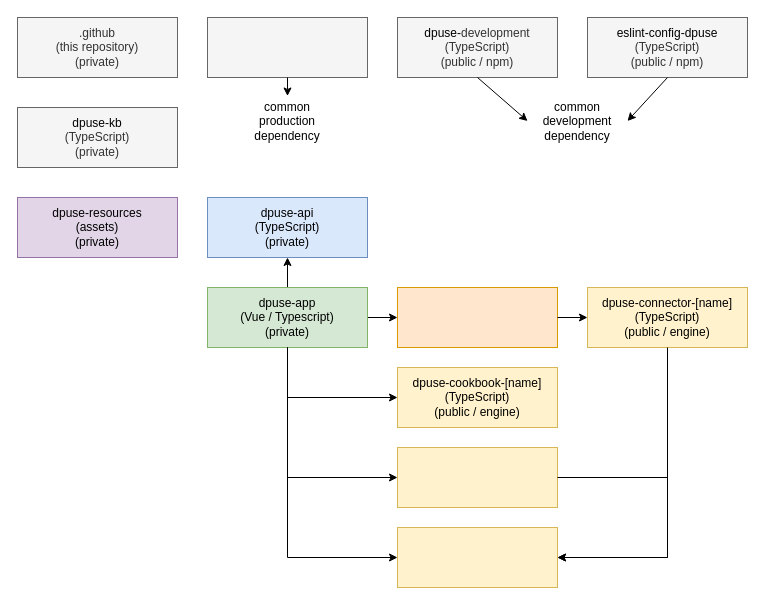
The diagram is 765 pixels wide and 605 high, and some of its shapes have lost their labels. The shapes that lost their labels are listed below. From the top down, each one's box as (x1, y1, x2, y2) in pixels, then its label:
(206, 16, 368, 78): dpuse- shared (TypeScript) (public / npm)
(396, 286, 558, 348): dpuse- engine (TypeScript / Rust) (private)
(396, 446, 558, 508): dpuse- presenter-[name] (TypeScript) (public / engine)
(396, 526, 558, 588): dpuse- tool-[name] (TypeScript / Rust) (public / engine & npm)
